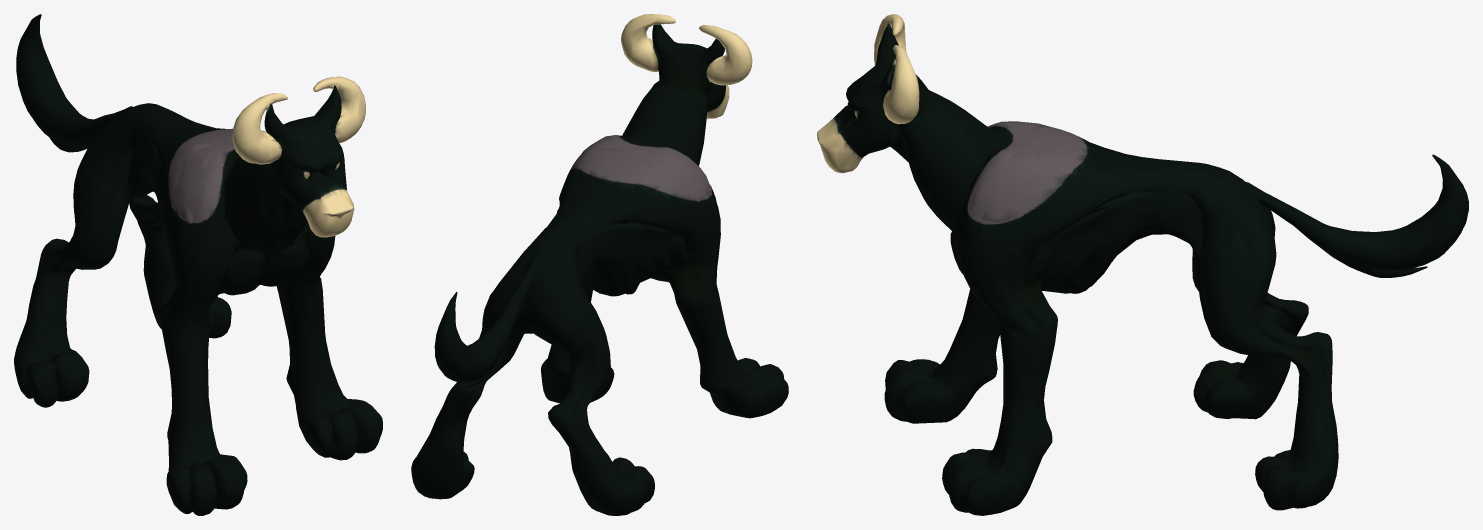
The model's file is tripo-lod.glb.
3 views of the same model, side by side, from view 1: azimuth 30°, elevation 25°; view 2: azimuth 150°, elevation 25°; view 3: azimuth 270°, elevation 25° (orthographic). The views are drawn at different scales.
Visible parts, largest first — view 1: hound tripo lod; view 2: hound tripo lod; view 3: hound tripo lod.
Boxes of the visible parts, x1,y1,x2,y2 form: hound tripo lod: [14, 14, 382, 515]; hound tripo lod: [411, 14, 788, 515]; hound tripo lod: [817, 14, 1468, 515].
Size of the model in its own units: 1.02 by 1.69 by 2.33.
1 material, 1 textured.
